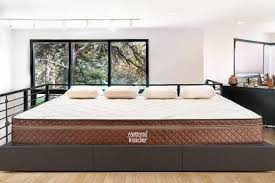bed-matress: (11, 81, 264, 146)
